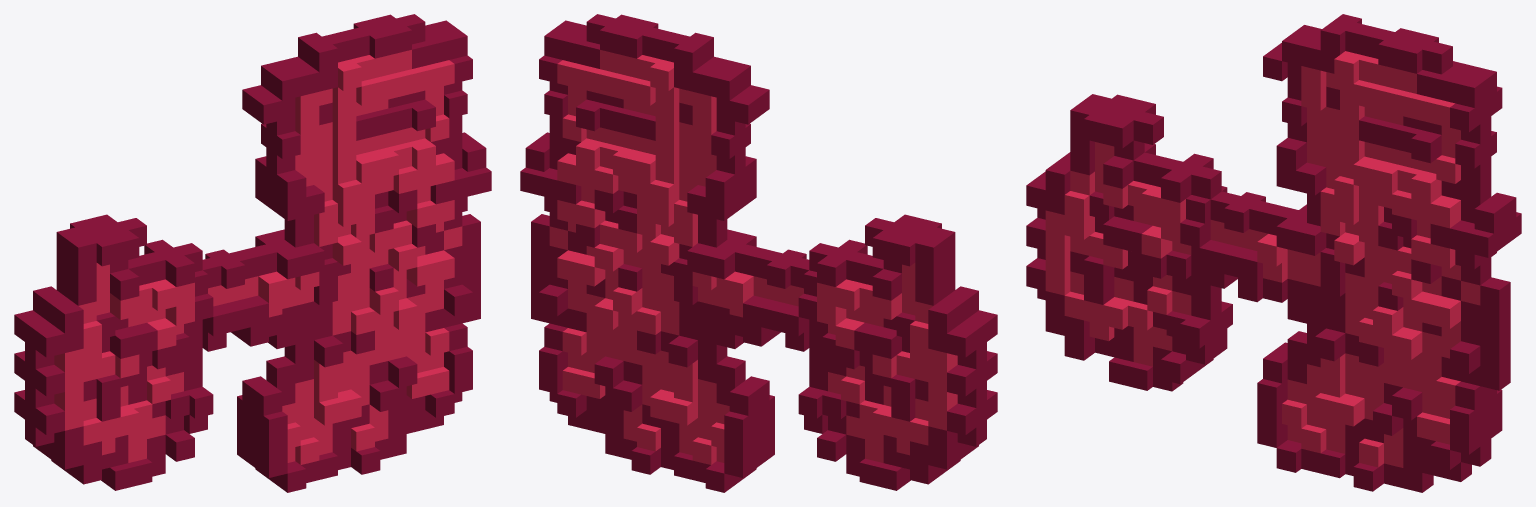
The model's file is Enemy destroyer.fbx.
3 renders of one model, left to right at view 1: azimuth 30°, elevation 25°; view 2: azimuth 150°, elevation 25°; view 3: azimuth 330°, elevation 25°, orthographic. The views are drawn at different scales.
Parts seen in each view (by area): view 1: generated; view 2: generated; view 3: generated.
Part boxes in pixels (x1=…): generated: x1=14, y1=14, x2=491, y2=492; generated: x1=520, y1=14, x2=997, y2=492; generated: x1=1026, y1=14, x2=1521, y2=492.
Size of the model in its own units: 240 by 220 by 30.
